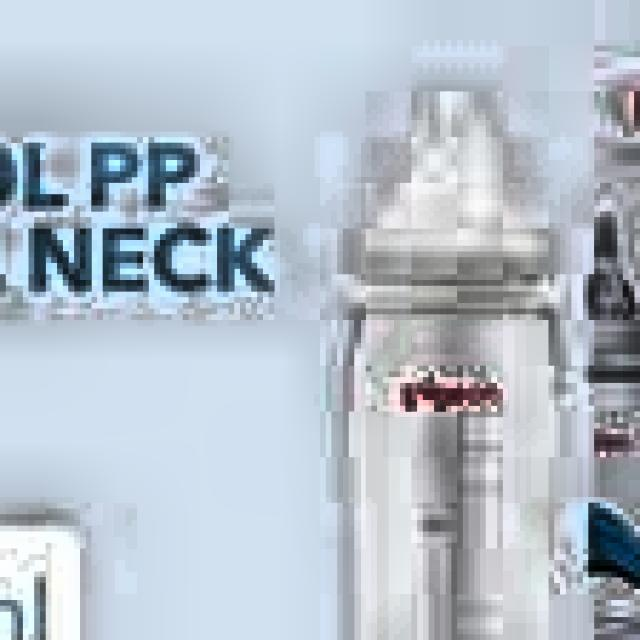plastic: (320, 97, 629, 640)
